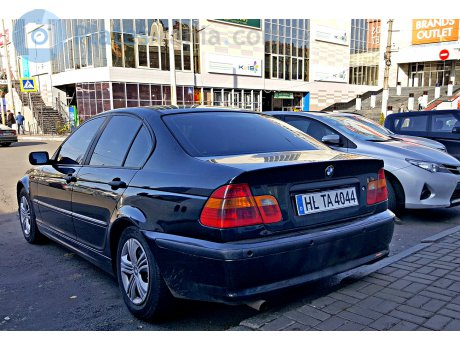License Plates: (302, 192, 359, 210), (299, 196, 308, 203), (342, 186, 350, 193)
